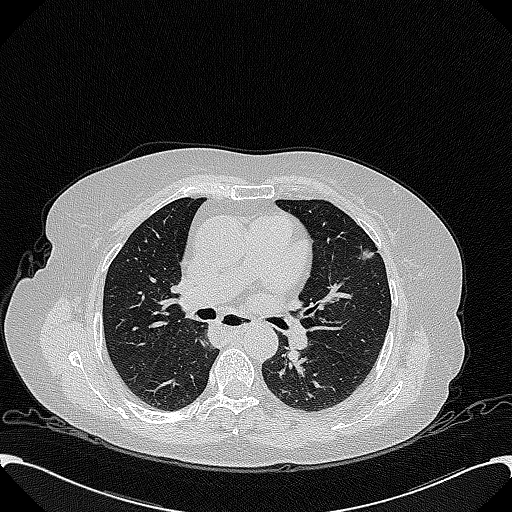nodule: (358, 248, 374, 260)
